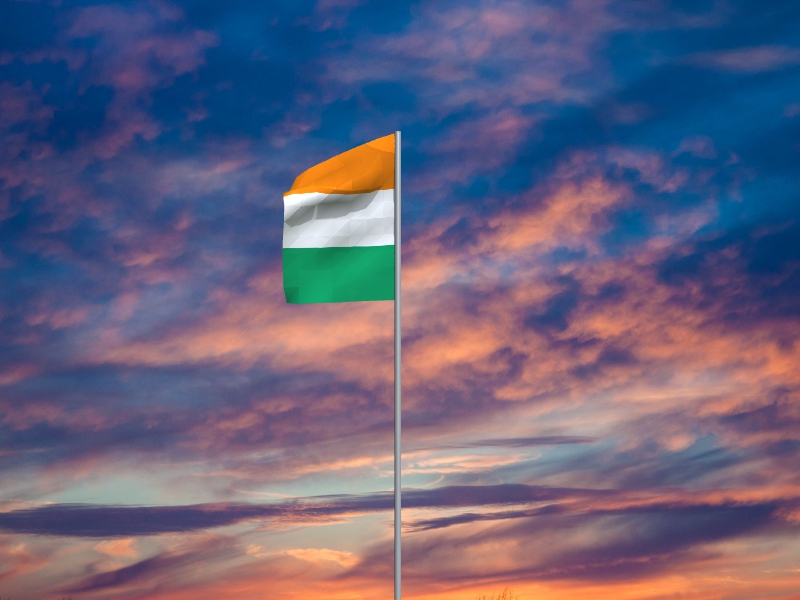ci: (281, 134, 396, 307)
